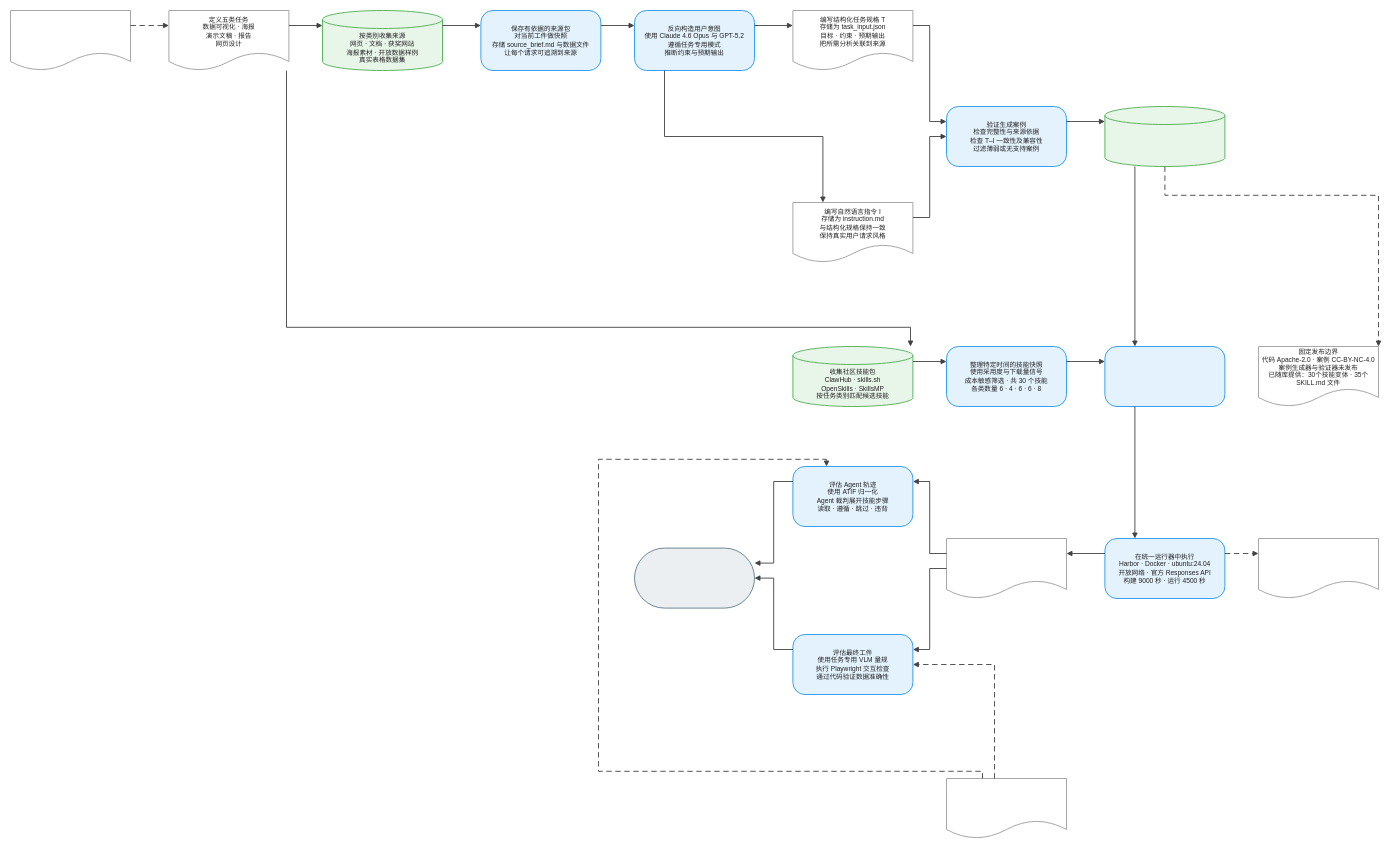
Image size: 1394x850. Some labels were removed from this diagram. Each missing label, with the centre of its shape:
"发布 677 个验证案例 数据可视化 150 · 海报 119 演示文稿 82 · 报告 195 网页 131 · 来源包 + T + I" belongs at point 1164,136.
"固定官方证据 arXiv 2605.23657v2 · PDF 15909b00291f Git d0e109283eee HF b48e00fc4094" belongs at point 70,40.
"报告 Agent 与技能效应 按类别和整体汇总 1–5 分质量 技能增益 · 多样性 · Token · 时间 比较成本性能权衡" belongs at point 694,577.
"捕获运行证据 PPTX · index.html · PNG · HTML 工件 · Token 用量 · 墙钟时间 兼容 ATIF 的 Agent 轨迹" belongs at point 1006,568.
"构造受控实验变体 无技能 对比 强制使用技能 同案例 · 同裁判 · 同模型 固定任务，只改变技能" belongs at point 1164,376.
"运行复现边界 download_cases.py 未传入版本号 默认下载会跟随移动的 HEAD 还需要 Docker、凭据和外部 API" belongs at point 1318,568.
"验证自动评测管线 100 例 · 四位资深标注员 质量>2.98 · 一致率 98.8% 评测 2.86 · 75.0% 相关性 0.855 / 0.821" belongs at point 1006,808.
